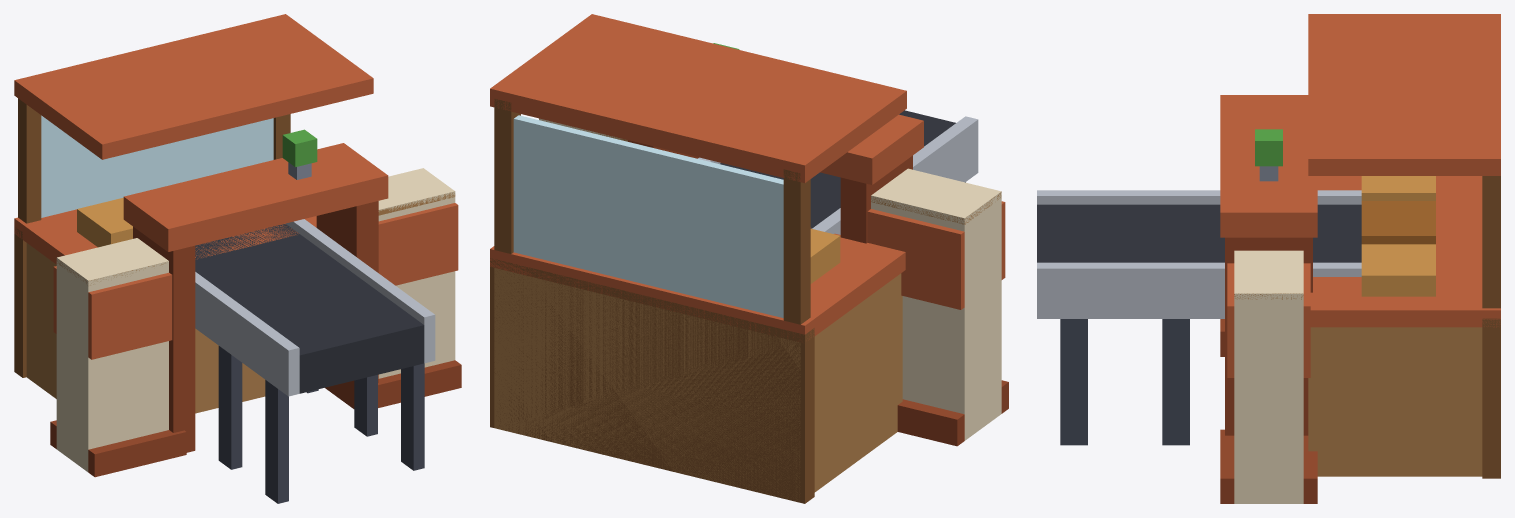
File: counter-exit.glb
3 views of the same model, side by side, from view 1: azimuth 30°, elevation 25°; view 2: azimuth 150°, elevation 25°; view 3: azimuth 270°, elevation 25° (orthographic). The views are drawn at different scales.
Visible parts, largest first — view 1: counter-exit; view 2: counter-exit; view 3: counter-exit.
Part boxes in pixels (x1,y1,x2,y2): counter-exit: (14, 14, 461, 503); counter-exit: (490, 14, 1008, 503); counter-exit: (1037, 14, 1500, 503).
Size of the model in its own units: 1 by 0.76 by 1.
Materials: 1 (1 with a texture image).
